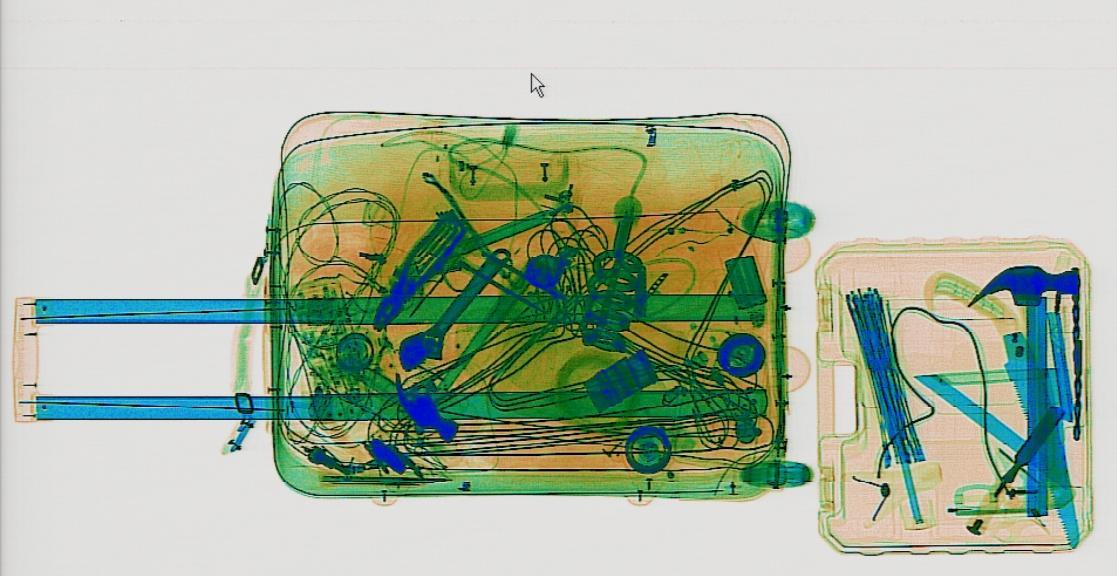Pliers: (351, 217, 476, 333)
Wrench: (378, 242, 526, 375)
